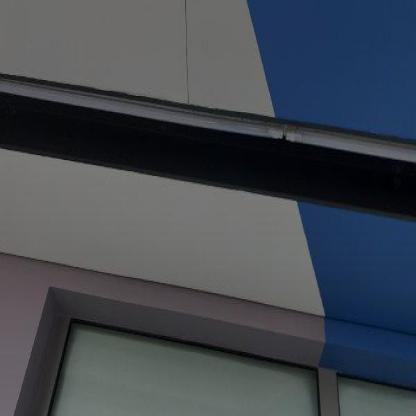light_off: (0, 62, 414, 180)
